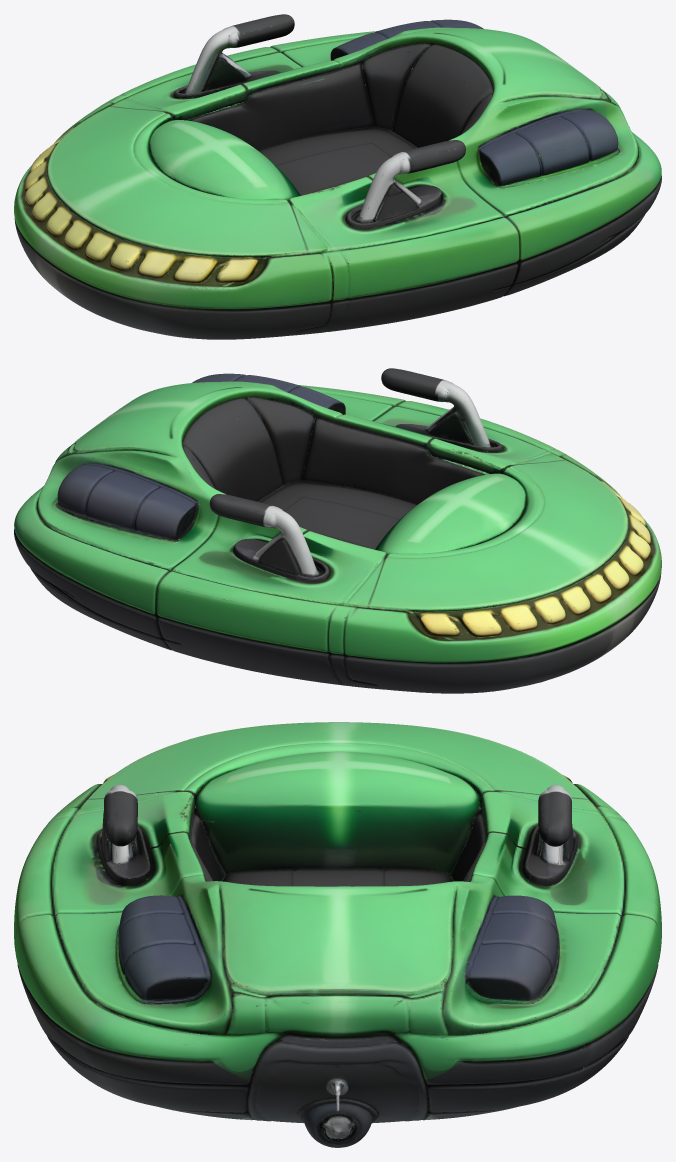
File: boat.glb
3 renders of one model, top to bottom at view 1: azimuth 30°, elevation 25°; view 2: azimuth 150°, elevation 25°; view 3: azimuth 270°, elevation 25°, orthographic. The views are drawn at different scales.
Visible parts, largest first — view 1: Mesh_0; view 2: Mesh_0; view 3: Mesh_0.
Part boxes in pixels (x1=…): Mesh_0: x1=14, y1=14, x2=661, y2=339; Mesh_0: x1=14, y1=368, x2=661, y2=693; Mesh_0: x1=14, y1=722, x2=661, y2=1147.
Bounding box in the file's own units: 2 × 0.6219 × 1.63.
Materials: 1 (1 with a texture image).
